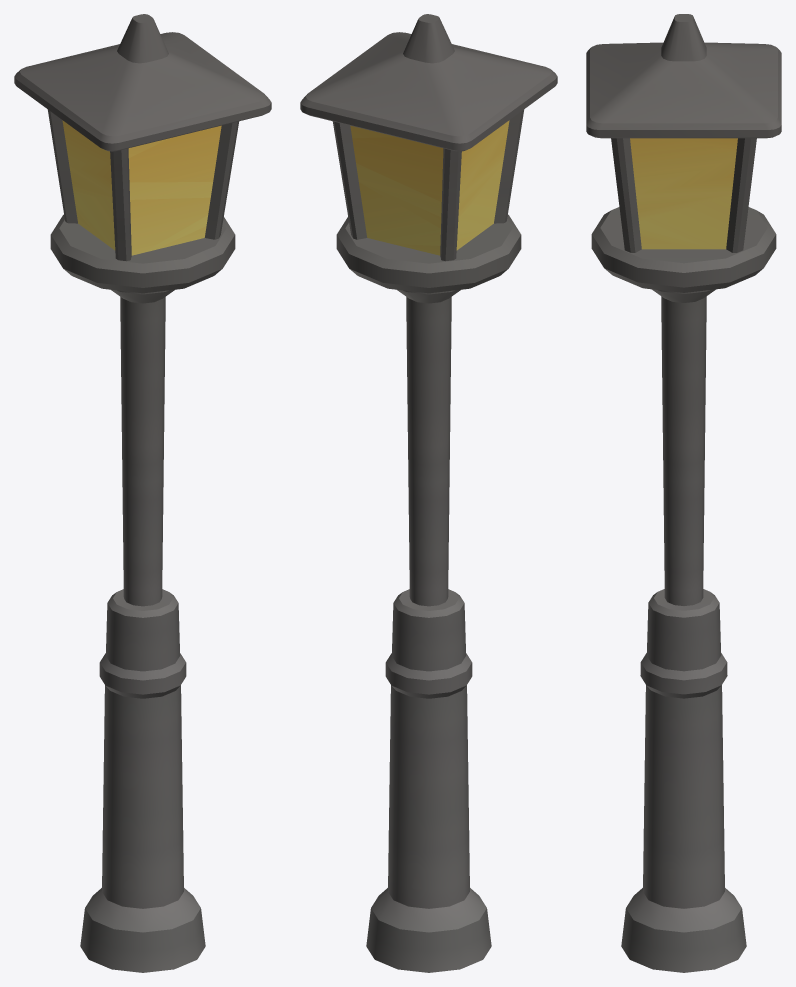
Rendered from Lamp_1_2.obj.
The picture shows the model from 3 angles, left to right: view 1: azimuth 30°, elevation 25°; view 2: azimuth 150°, elevation 25°; view 3: azimuth 270°, elevation 25°; orthographic projection.
Parts seen in each view (by area): view 1: Lamp_1_2; view 2: Lamp_1_2; view 3: Lamp_1_2.
Boxes of the visible parts, bbox=[...] form: Lamp_1_2: bbox=[14, 14, 271, 972]; Lamp_1_2: bbox=[300, 14, 557, 972]; Lamp_1_2: bbox=[586, 14, 781, 972].
Bounding box in the file's own units: 0.6015 × 3.15 × 0.6015.
